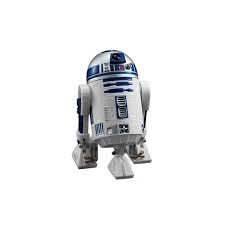r2d2: (71, 49, 153, 179)
